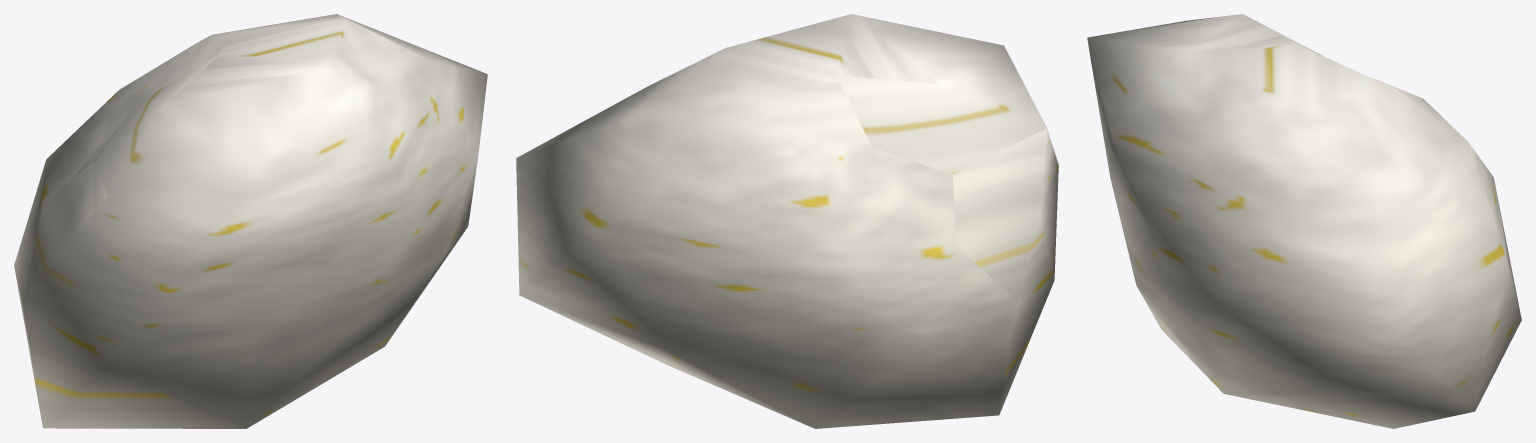
Rendered from saltlump.glb.
The picture shows the model from 3 angles, left to right: view 1: azimuth 30°, elevation 25°; view 2: azimuth 150°, elevation 25°; view 3: azimuth 270°, elevation 25°; orthographic projection. The views are drawn at different scales.
Parts seen in each view (by area): view 1: saltlump; view 2: saltlump; view 3: saltlump.
Boxes of the visible parts, bbox=[...] form: saltlump: bbox=[14, 14, 487, 428]; saltlump: bbox=[516, 14, 1058, 428]; saltlump: bbox=[1087, 14, 1521, 428].
Bounding box in the file's own units: 0.1638 × 0.1182 × 0.1233.
1 material, 1 textured.
